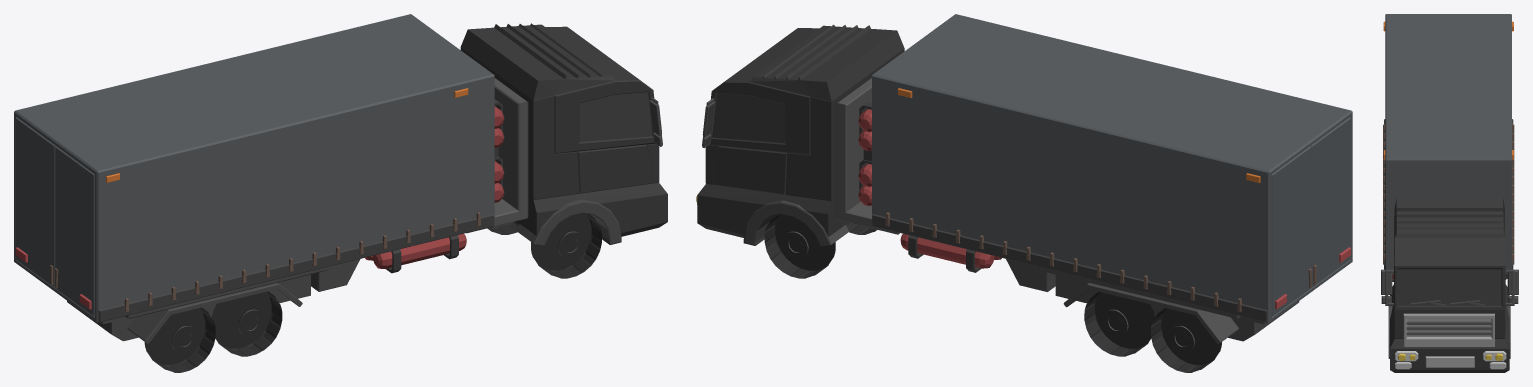
Rendered from truck.glb.
The picture shows the model from 3 angles, left to right: view 1: azimuth 30°, elevation 25°; view 2: azimuth 150°, elevation 25°; view 3: azimuth 270°, elevation 25°; orthographic projection. The views are drawn at different scales.
Parts seen in each view (by area): view 1: body; view 2: body; view 3: body, wheel_rear_R, wheel_front_R.
Boxes of the visible parts, left/top/right/bottom form: body: left=14, top=14, right=667, bottom=372; body: left=697, top=14, right=1352, bottom=372; body: left=1381, top=14, right=1518, bottom=372; wheel_rear_R: left=1483, top=351, right=1506, bottom=369; wheel_front_R: left=1395, top=351, right=1418, bottom=369.
Size of the model in its own units: 12.11 by 4.55 by 3.29.
1 material, 1 textured.
